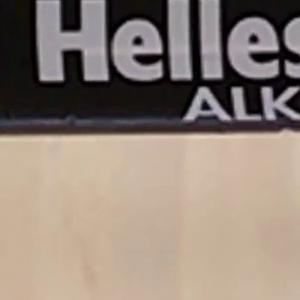ALK: (173, 77, 297, 132)
